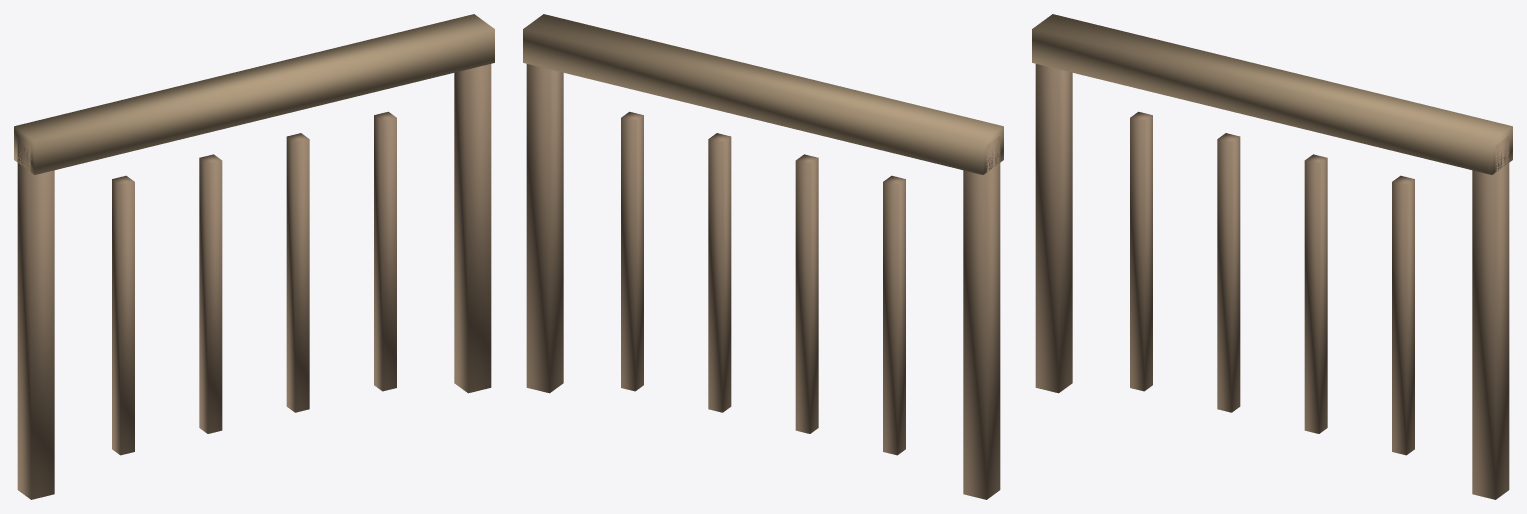
The model's file is court_rail__compact.glb.
3 views of the same model, side by side, from view 1: azimuth 30°, elevation 25°; view 2: azimuth 150°, elevation 25°; view 3: azimuth 330°, elevation 25° (orthographic).
Visible parts, largest first — view 1: world; view 2: world; view 3: world.
Boxes of the visible parts, <box> form: world: <box>14,14,494,499</box>; world: <box>523,14,1003,499</box>; world: <box>1032,14,1512,499</box>.
Size of the model in its own units: 1.33 by 0.9951 by 0.1032.
